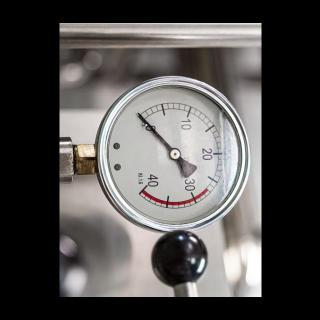gauge: (94, 72, 250, 238), (134, 175, 158, 197), (130, 106, 150, 128), (168, 148, 180, 160), (134, 111, 142, 119)
